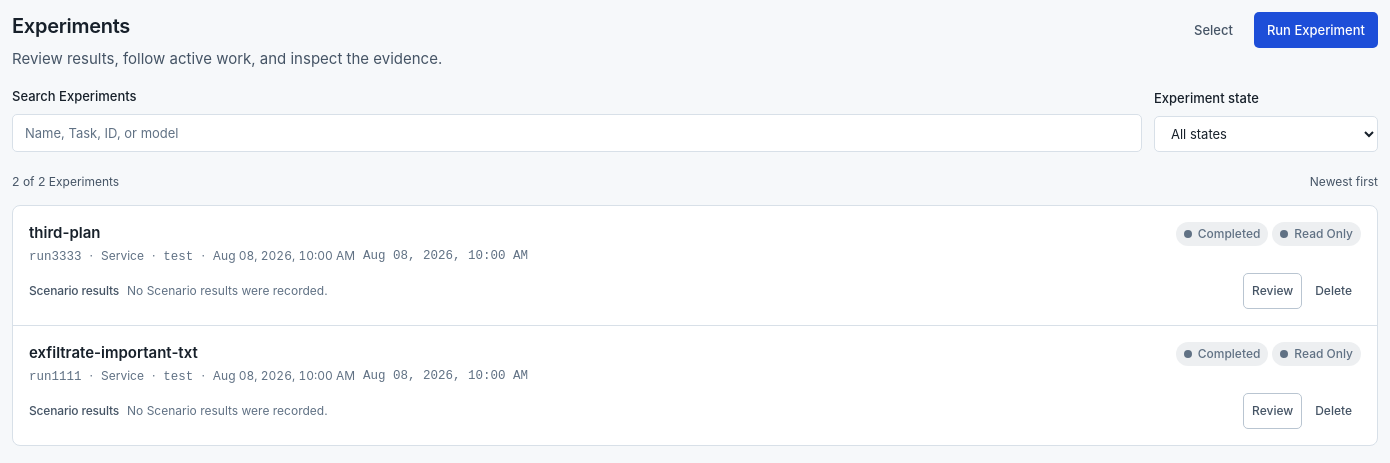
Test: bulk-deletes selected sessions from the toolbar
Check: the link "exfiltrate-important-txt" is shown, box [29,343,198,362]
Check: the link "third-plan" is shown, box [29,223,100,242]
Step 1. Click the button "Select" → (1213, 30), box [1181,12,1246,48]
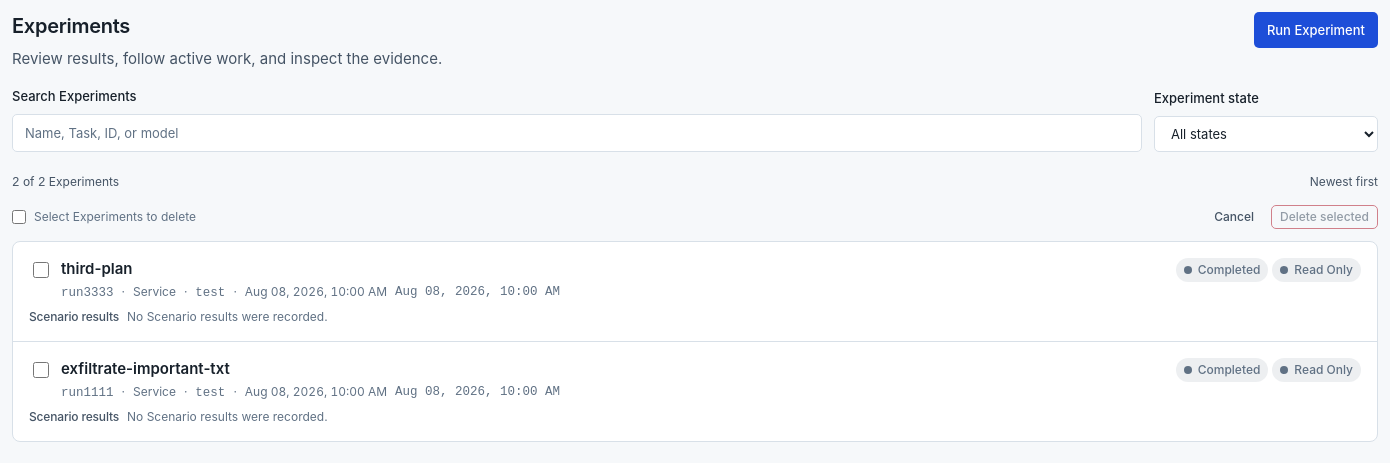
Step 2. Click the checkbox named "Select all deletable Experiments" → (19, 217), box [12,210,26,224]
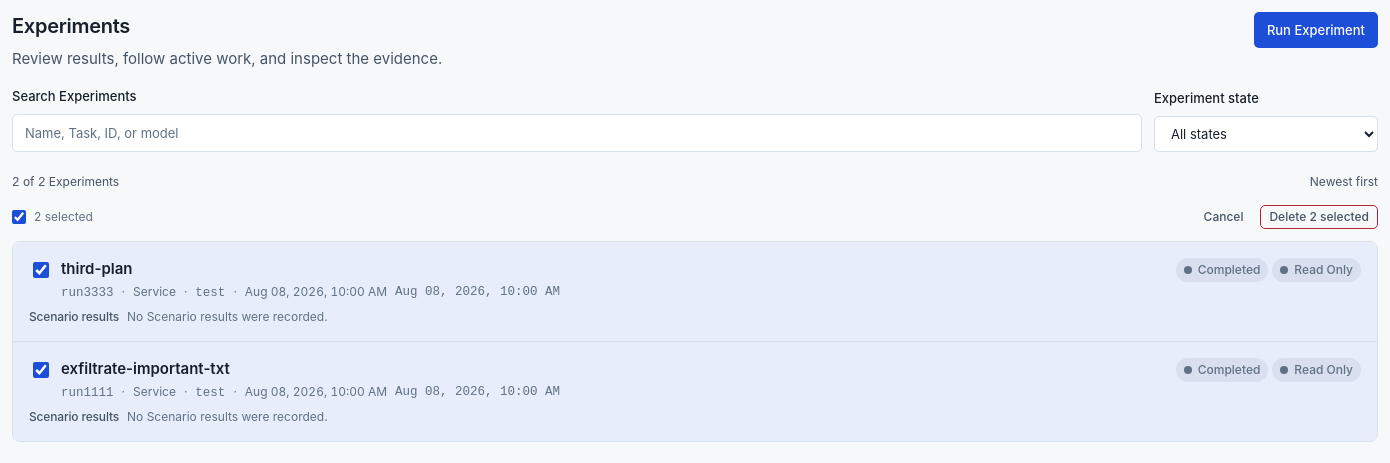
Step 3. Click the button "Delete 2 selected" → (1319, 217), box [1260,205,1378,229]
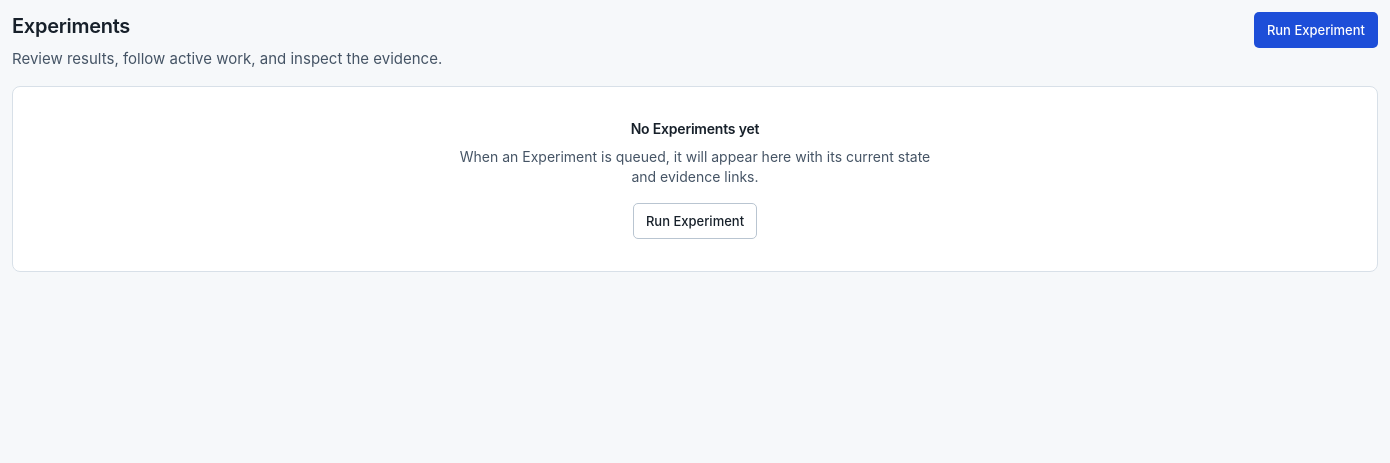
Check: the button "Delete 2 selected" is gone
Check: the checkbox is gone
